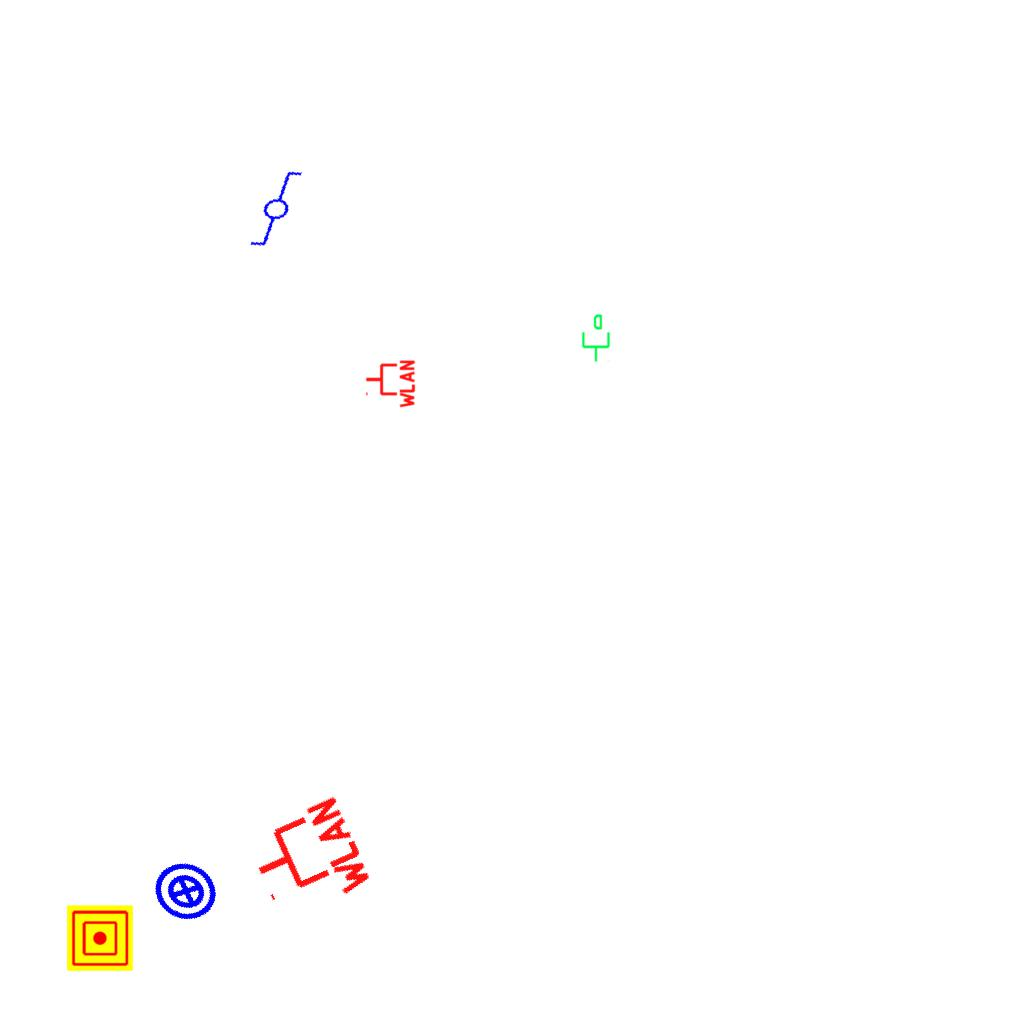Datenanschluss_einfach: (578, 313, 612, 363)
NAM-Nichtautomatischer_Melder: (67, 905, 133, 971)
Taster_beleuchtet: (142, 847, 230, 935)
WLAN: (238, 791, 377, 929), (364, 358, 416, 410)
Wechselschalter: (225, 165, 319, 253)
